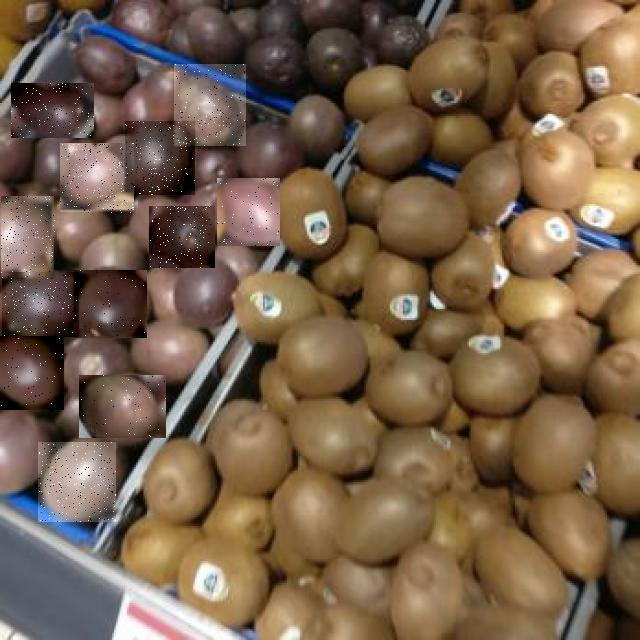Plum: (38, 442, 116, 522), (175, 64, 247, 146), (79, 375, 166, 438), (125, 121, 195, 195), (61, 144, 135, 214), (2, 272, 79, 337), (74, 271, 147, 339), (0, 336, 64, 410), (11, 83, 94, 138), (2, 196, 56, 278), (217, 179, 280, 247), (149, 206, 215, 268)
